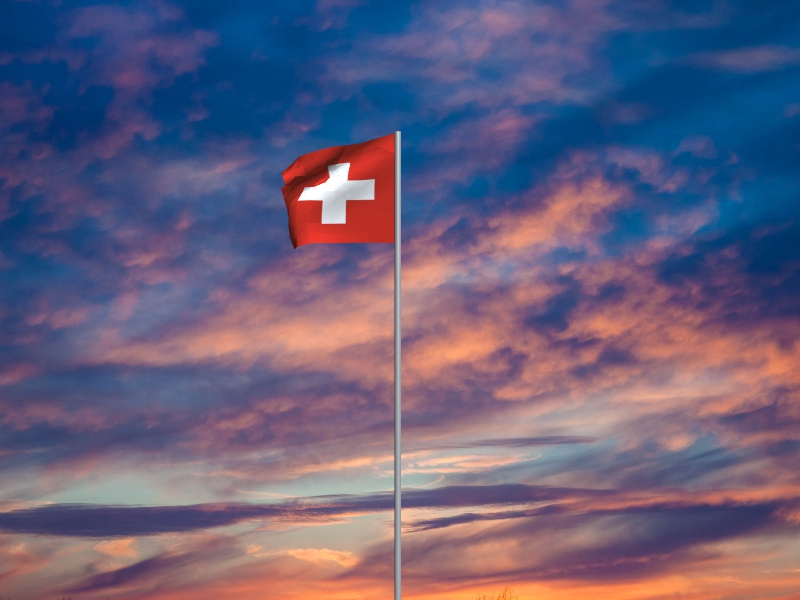ch: (280, 134, 395, 251)
